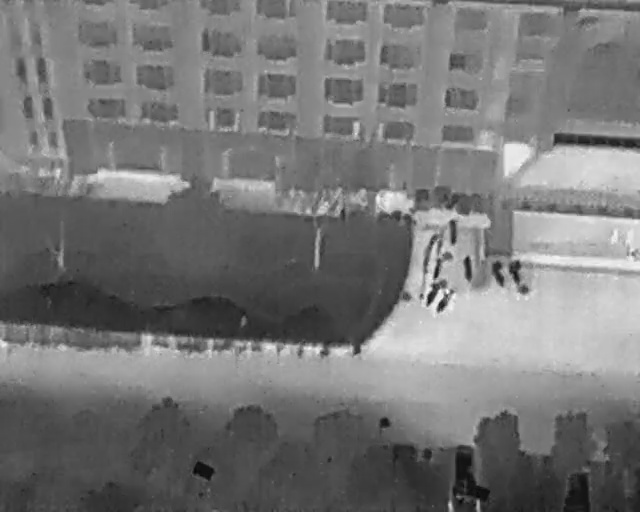Bicycle: (418, 277, 445, 311), (431, 285, 458, 316), (488, 256, 508, 290), (506, 255, 526, 288), (429, 256, 444, 282), (447, 216, 459, 246), (462, 253, 474, 283)
Person: (623, 226, 636, 249), (625, 244, 639, 262), (610, 226, 618, 246)
